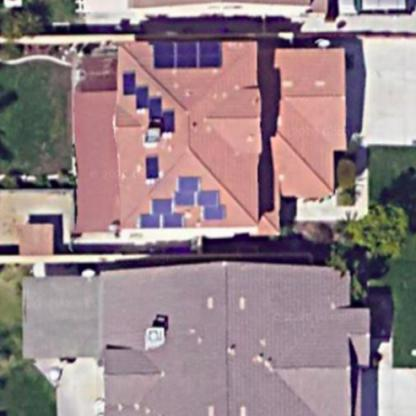solar_panel: (131, 170, 227, 230), (119, 64, 180, 138), (149, 29, 232, 72)
